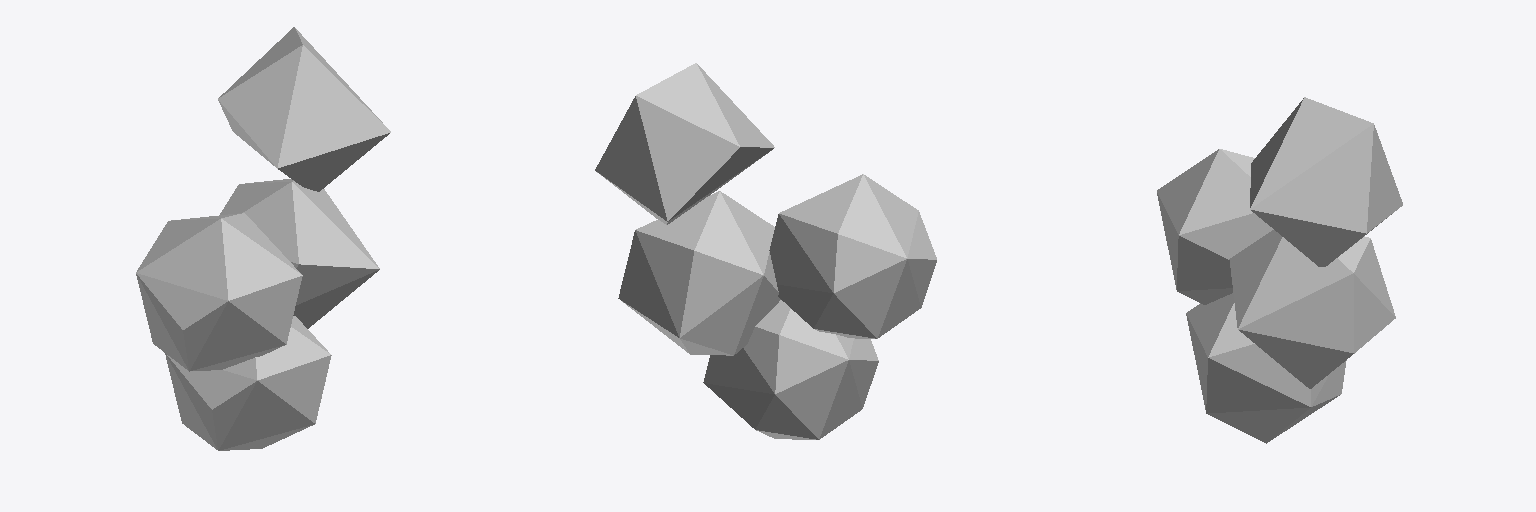
File: Cloud2.obj
The picture shows the model from 3 angles: view 1: azimuth 30°, elevation 25°; view 2: azimuth 150°, elevation 25°; view 3: azimuth 270°, elevation 25°; orthographic projection.
Visible parts, largest first — view 1: Cloud2_Object_74_Object_35.001; view 2: Cloud2_Object_74_Object_35.001; view 3: Cloud2_Object_74_Object_35.001.
Boxes of the visible parts, box(x1,y1,x2,y2) form: Cloud2_Object_74_Object_35.001: box(136, 27, 390, 450); Cloud2_Object_74_Object_35.001: box(595, 63, 936, 439); Cloud2_Object_74_Object_35.001: box(1157, 97, 1402, 443).
Bounding box in the file's own units: 0.9286 × 1.28 × 0.7652.